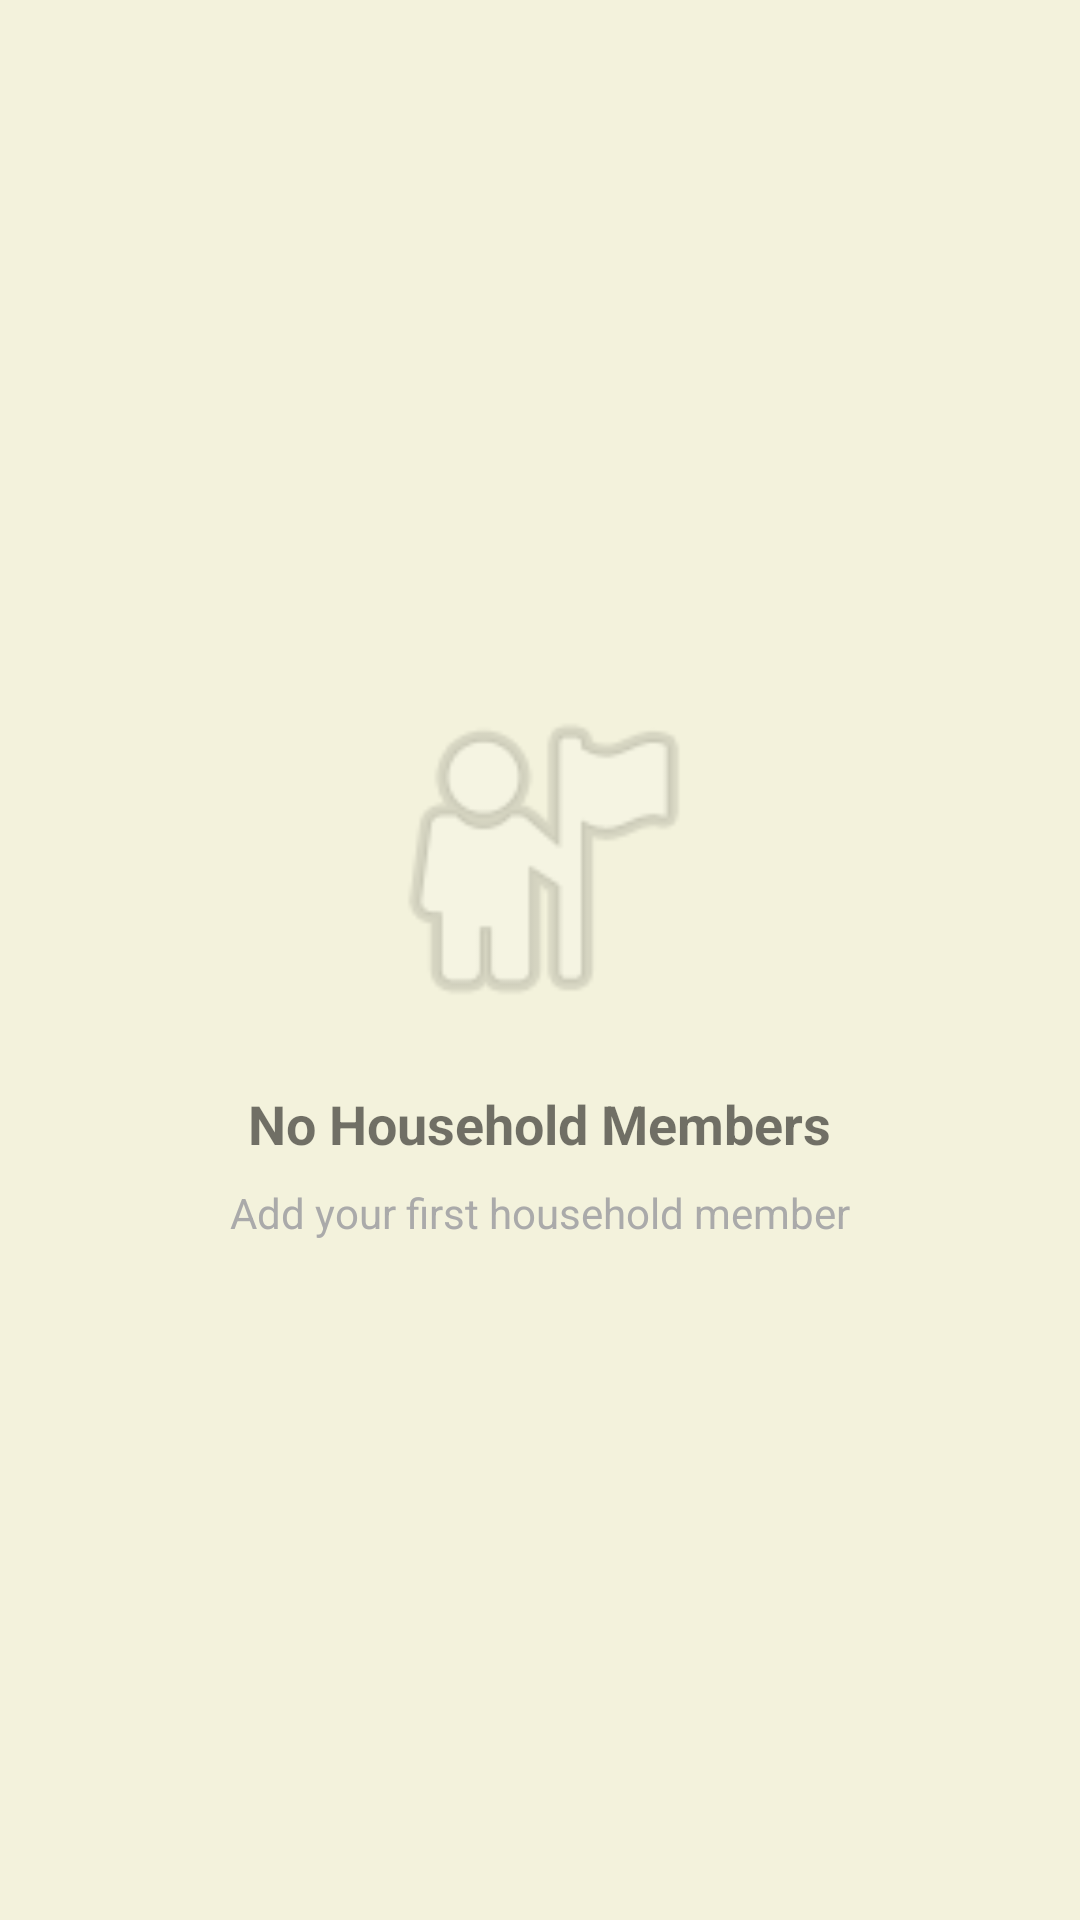

Icons on this 1080px×1920px Android screen, each with its box as region(x1, y1, x2, y2):
myplaces: region(412, 729, 676, 989)
